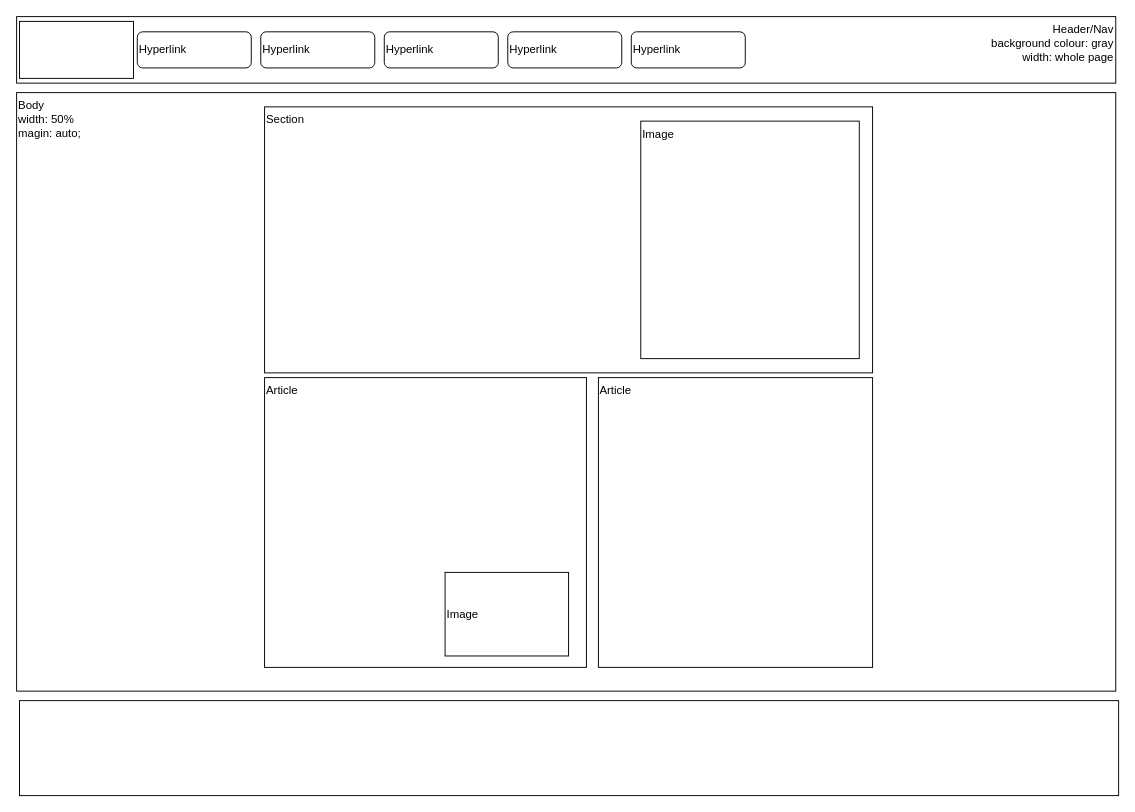
Image size: 1135x812. Some labels were removed from this diagram. Here are the shapes that lost their labels. From the top down, the centre of each, then its label:
At (76,49): "Image (Google Logo)".
At (569,748): "Footer Includes: References Also".
